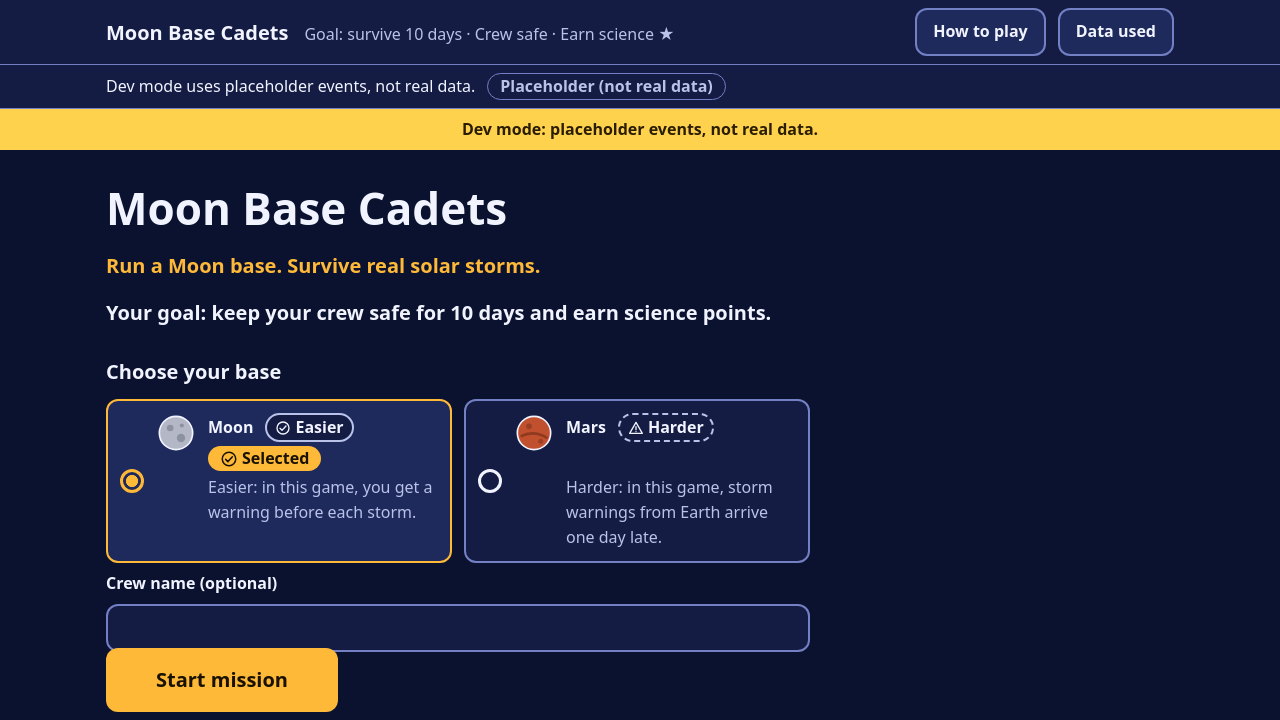
Test: Moon regression › keeps the event card before planning, "Start day 1", "Day 1 report" and "Go to day 2"
Click the button "Start mission": x=222, y=680 [106,648,338,712]
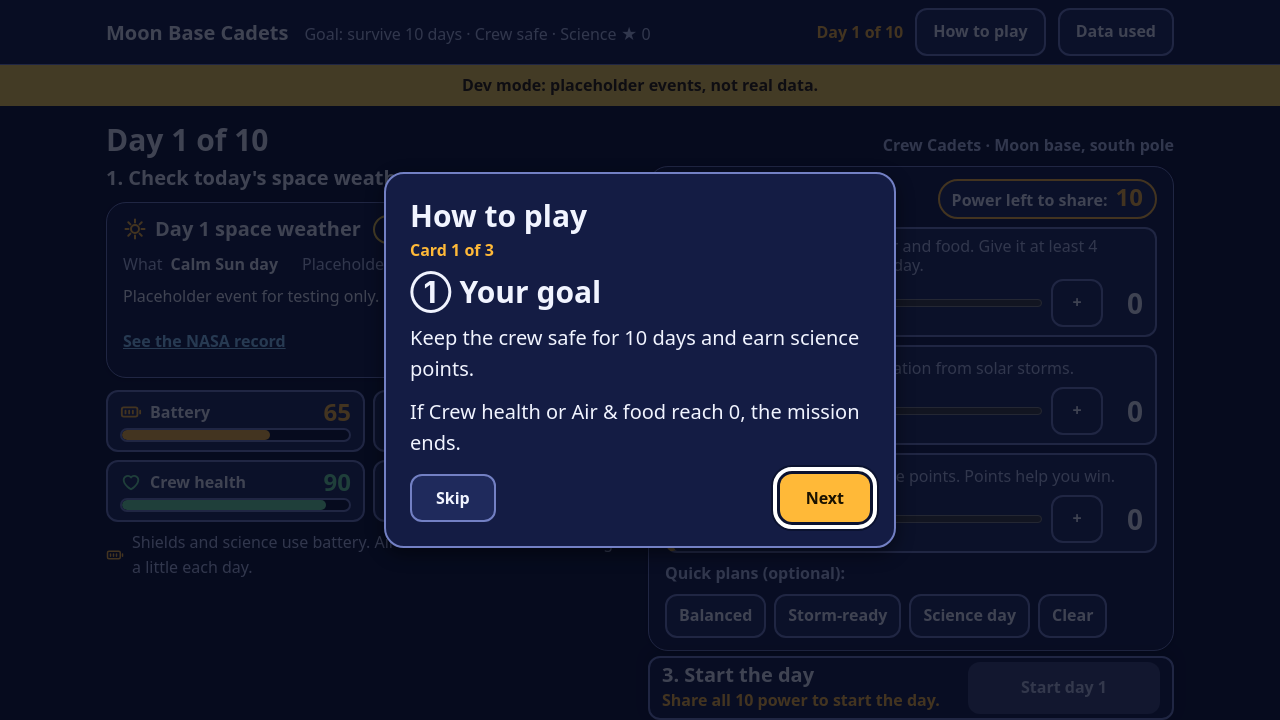
Click the button "Skip": x=453, y=498 [410,474,496,522]
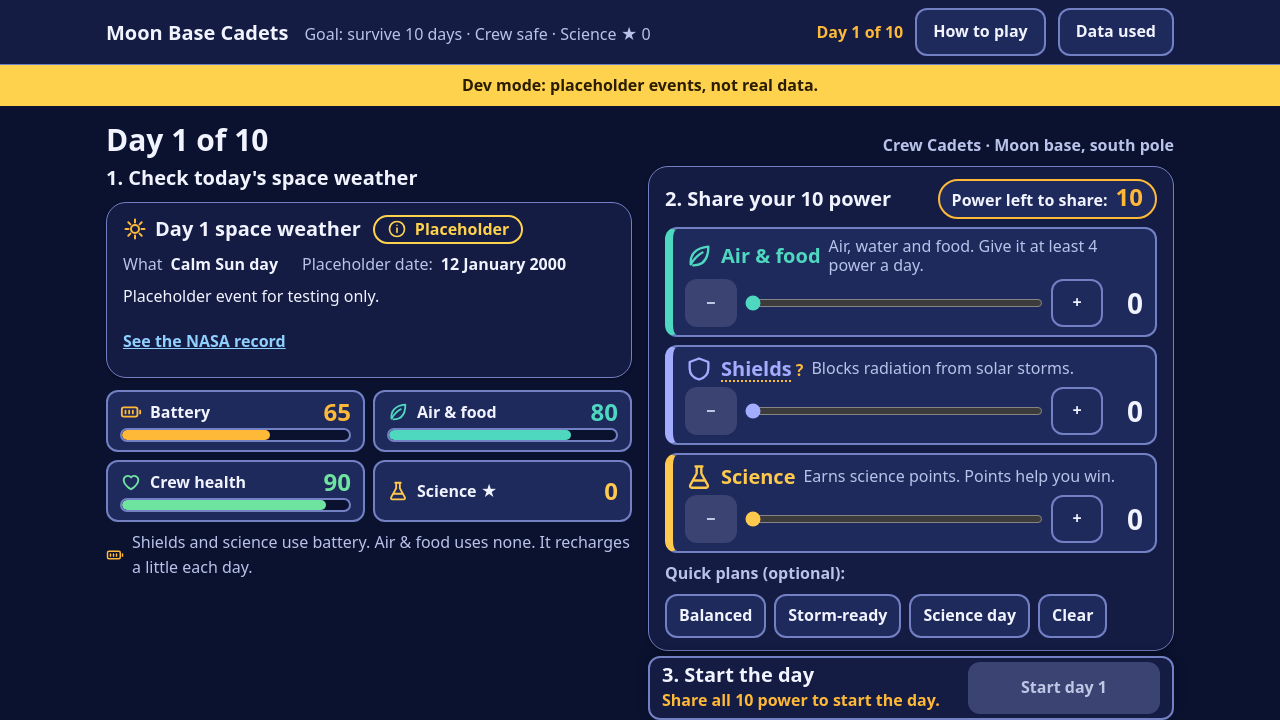
Expected: the text "If you start this day:" is not shown
Expected: the element "Day 1 space weather" is shown, [106,202,632,378]
Expected: the button "Start day 1" is disabled, [968,662,1160,714]
Click the button "Balanced": x=716, y=616 [665,594,766,638]
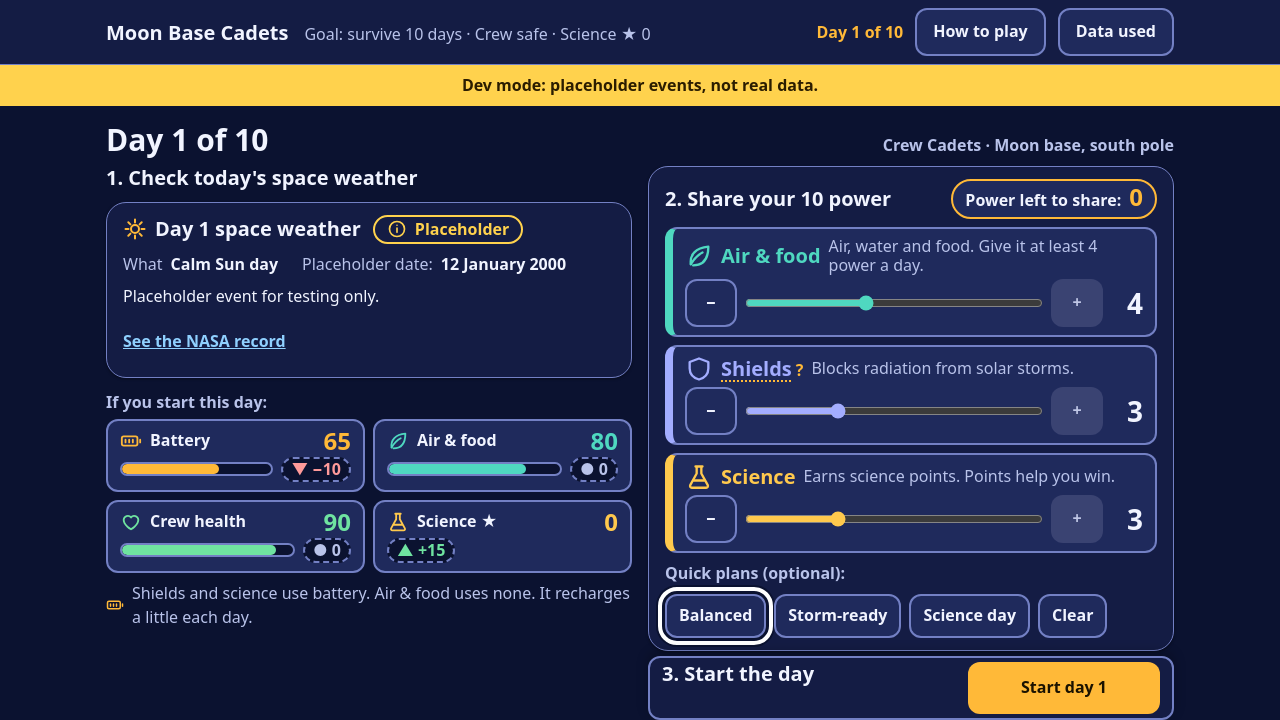
Expected: the text "If you start this day:" is shown, [106,391,267,413]
Click the button "Start day 1": x=1064, y=688 [968,662,1160,714]
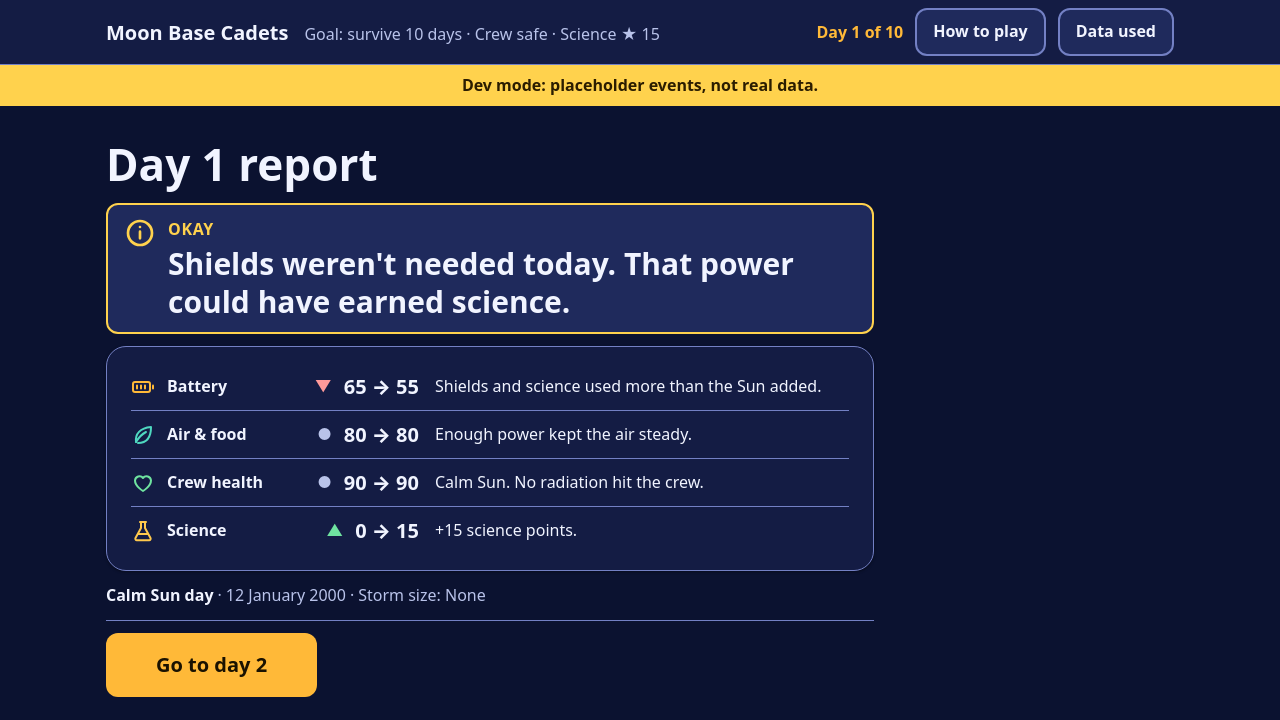
Expected: the heading "Day 1 report" is shown, [106,138,378,191]
Expected: the button "Go to day 2" is shown, [106,633,317,697]
